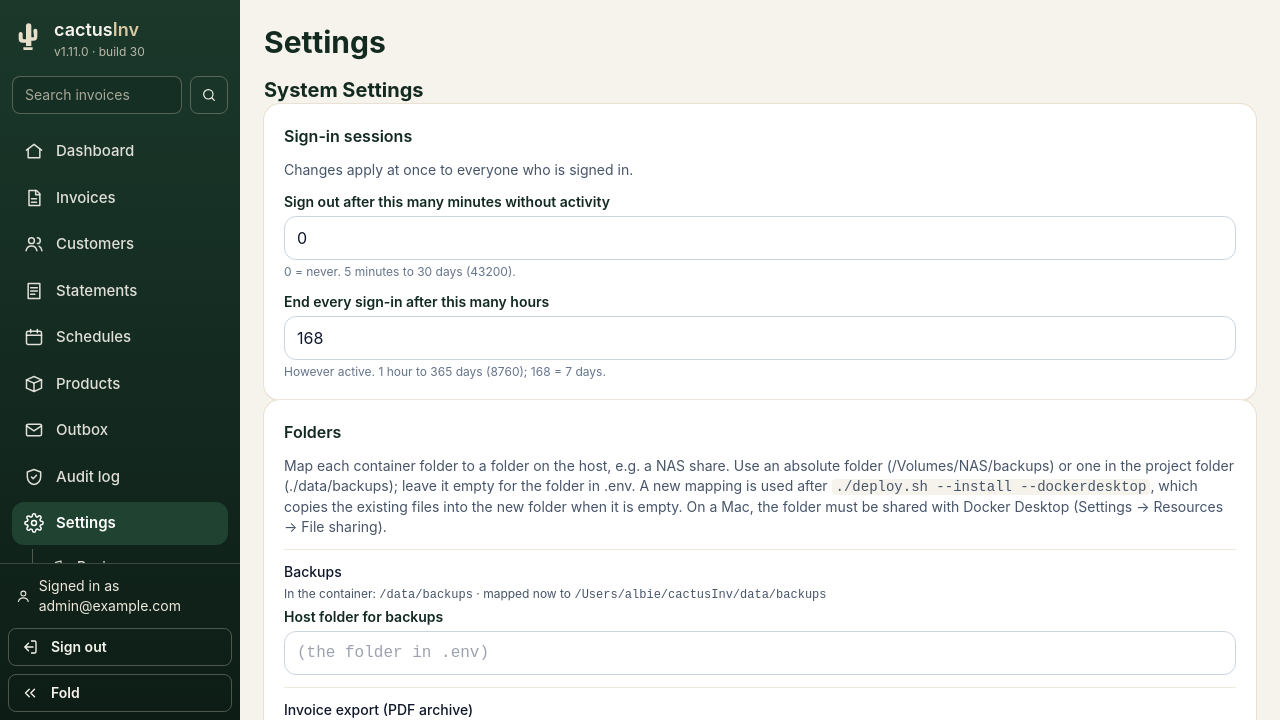
Test: sets the session timeouts and maps a folder, applied at the next deploy
Check: the heading "System Settings" is shown, box [264,78,424,102]
Check: the text "/Users/albie/cactusInv/data/backups" is shown, box [574,588,826,602]
Replace the text in the number field labelled "Sign out after this many minutes without activity" with "30" at (760,238), box [284,216,1236,260]
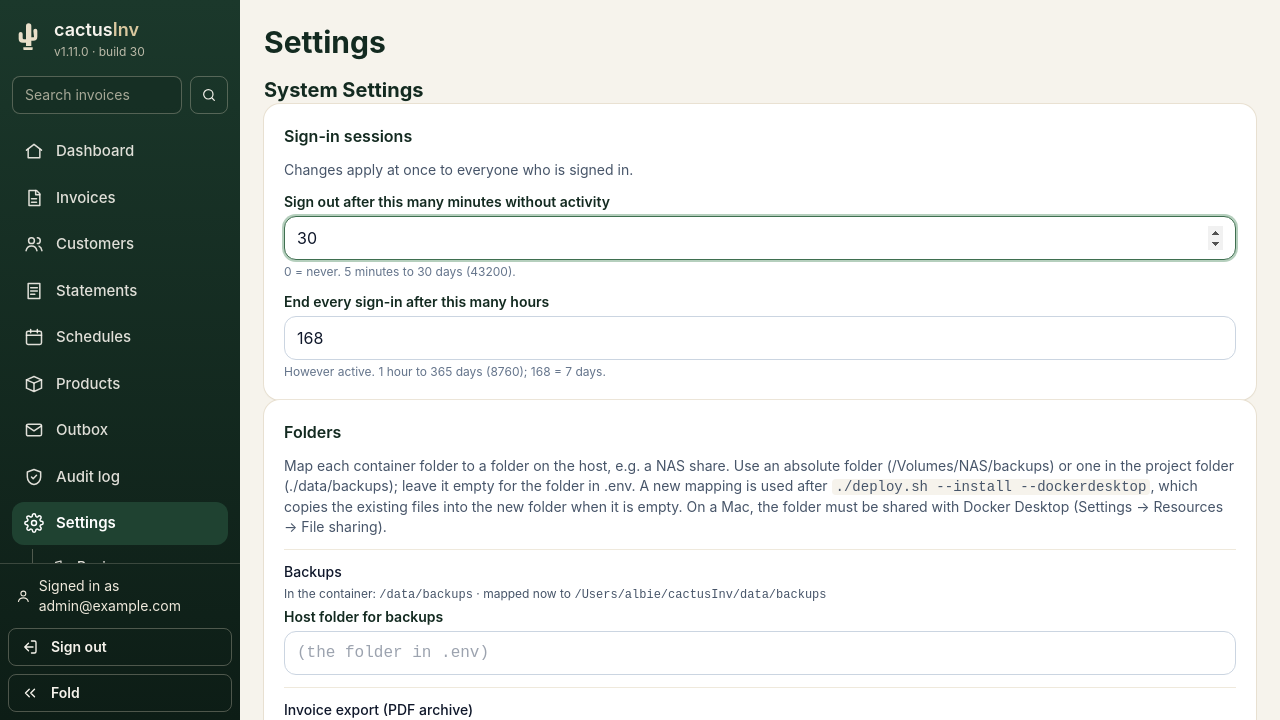
Replace the text in the number field labelled "End every sign-in after this many hours" with "12" at (760,338), box [284,316,1236,360]
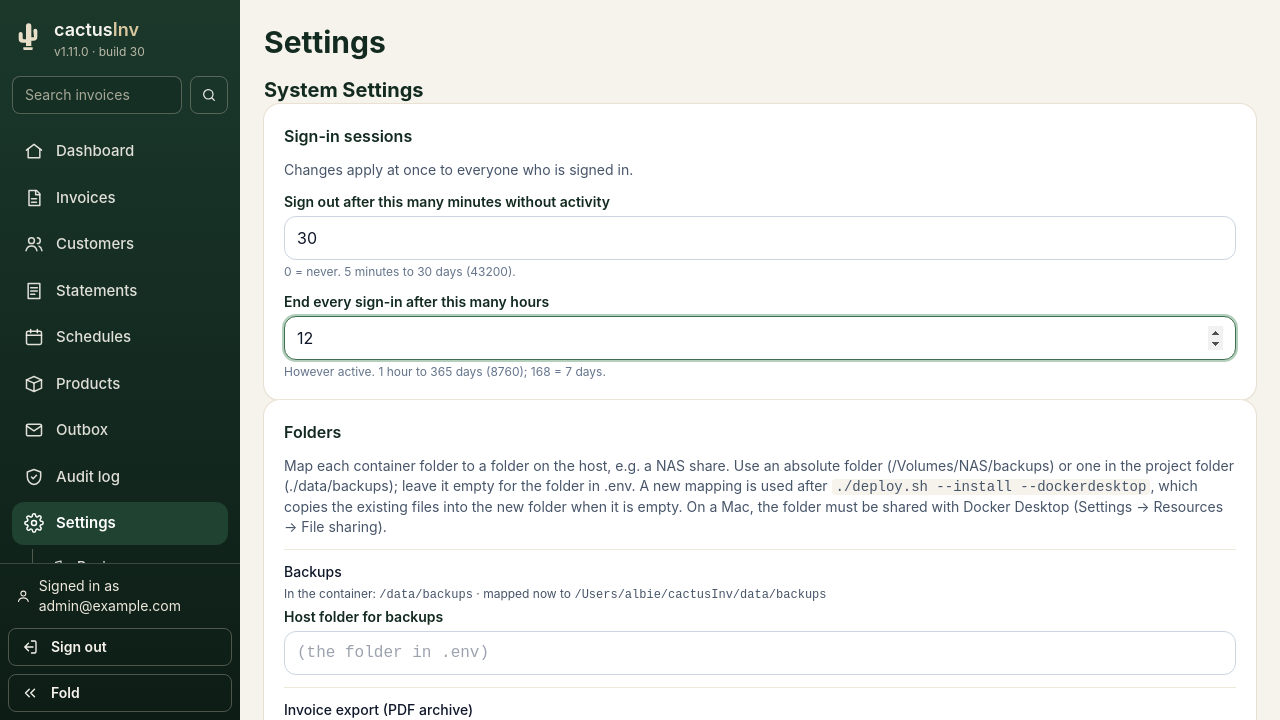
Type "/Volumes/NAS/backups" into the field labelled "Host folder for backups" at (760,653), box [284,631,1236,675]
(page scrolled)
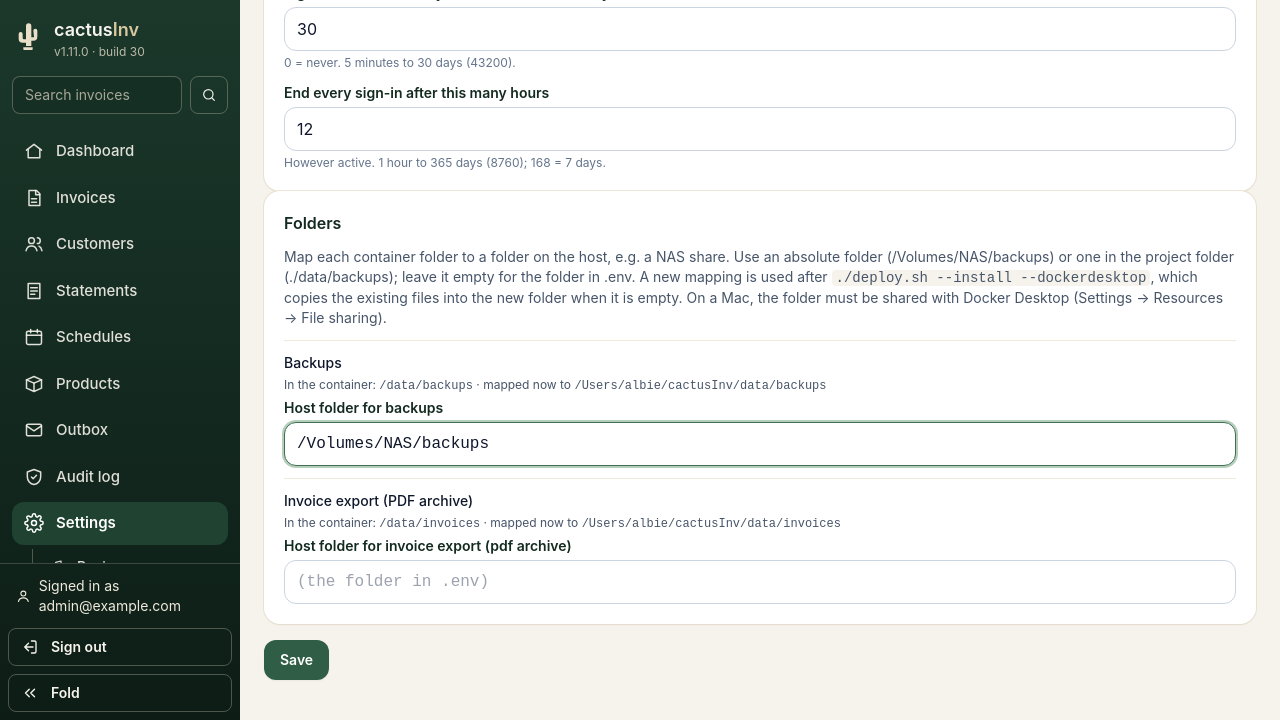
Click the button "Save" at (297,660), box [264,640,329,680]
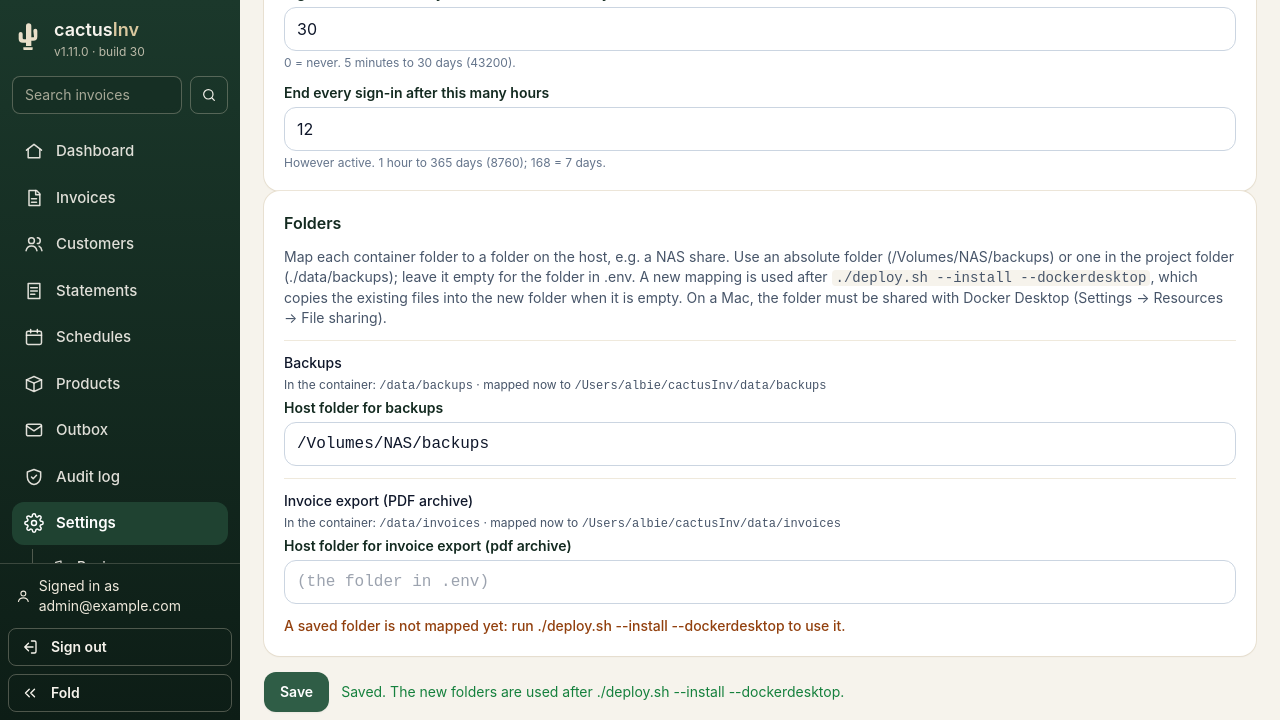
Check: the text "Saved. The new folders are used after ./deploy.sh --install --dockerdesktop." is shown, box [341,682,844,702]
Check: the text "run ./deploy.sh --install --dockerdesktop to use it" is shown, box [284,617,846,634]
